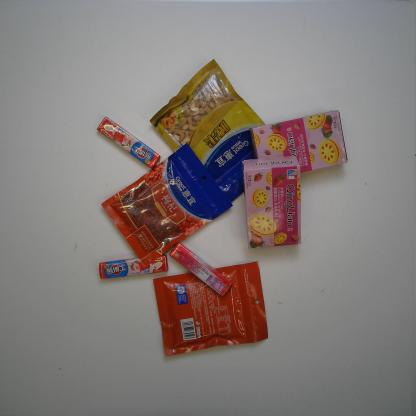Candy: (168, 239, 236, 297), (95, 116, 162, 171), (98, 254, 168, 283)
Dessert: (247, 106, 351, 180), (241, 154, 303, 252)
Dried Fruit: (148, 59, 285, 206), (101, 142, 239, 267), (151, 257, 271, 361)
